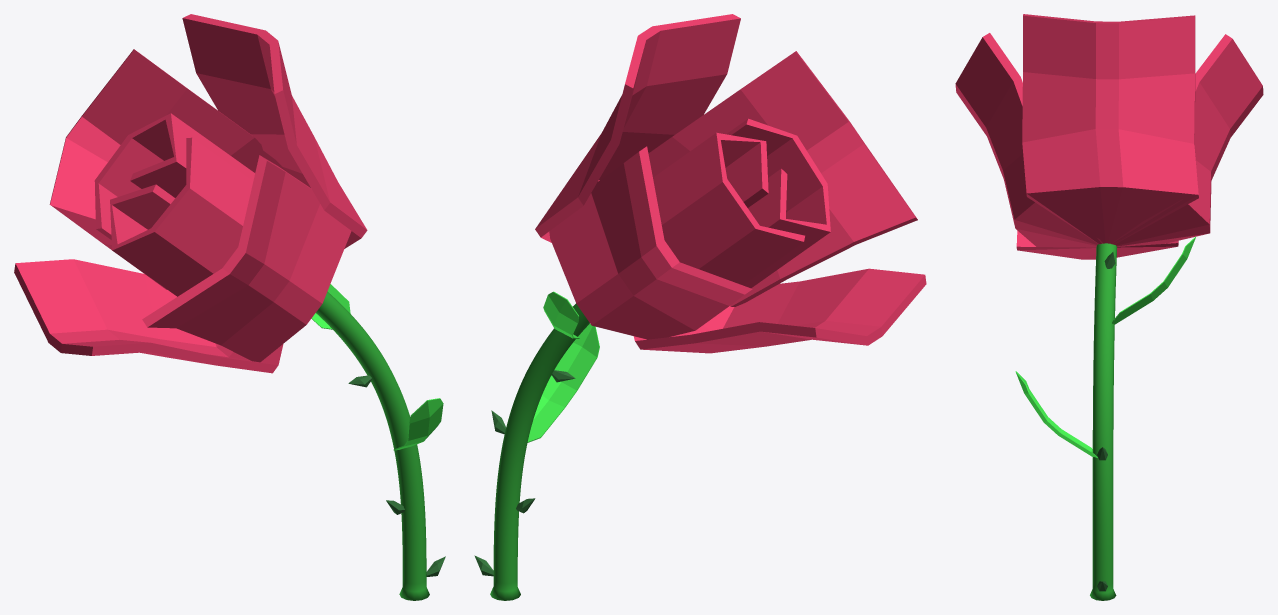
File: Rose-3.fbx
3 renders of one model, left to right at view 1: azimuth 30°, elevation 25°; view 2: azimuth 150°, elevation 25°; view 3: azimuth 270°, elevation 25°, orthographic. The views are drawn at different scales.
Parts seen in each view (by area): view 1: NurbsPath.001; view 2: NurbsPath.001; view 3: NurbsPath.001.
Part boxes in pixels (x1,y1,x2,y2): NurbsPath.001: (14, 14, 445, 600); NurbsPath.001: (474, 14, 926, 600); NurbsPath.001: (955, 14, 1263, 600).
Size of the model in its own units: 2.11 by 2.74 by 3.88.
